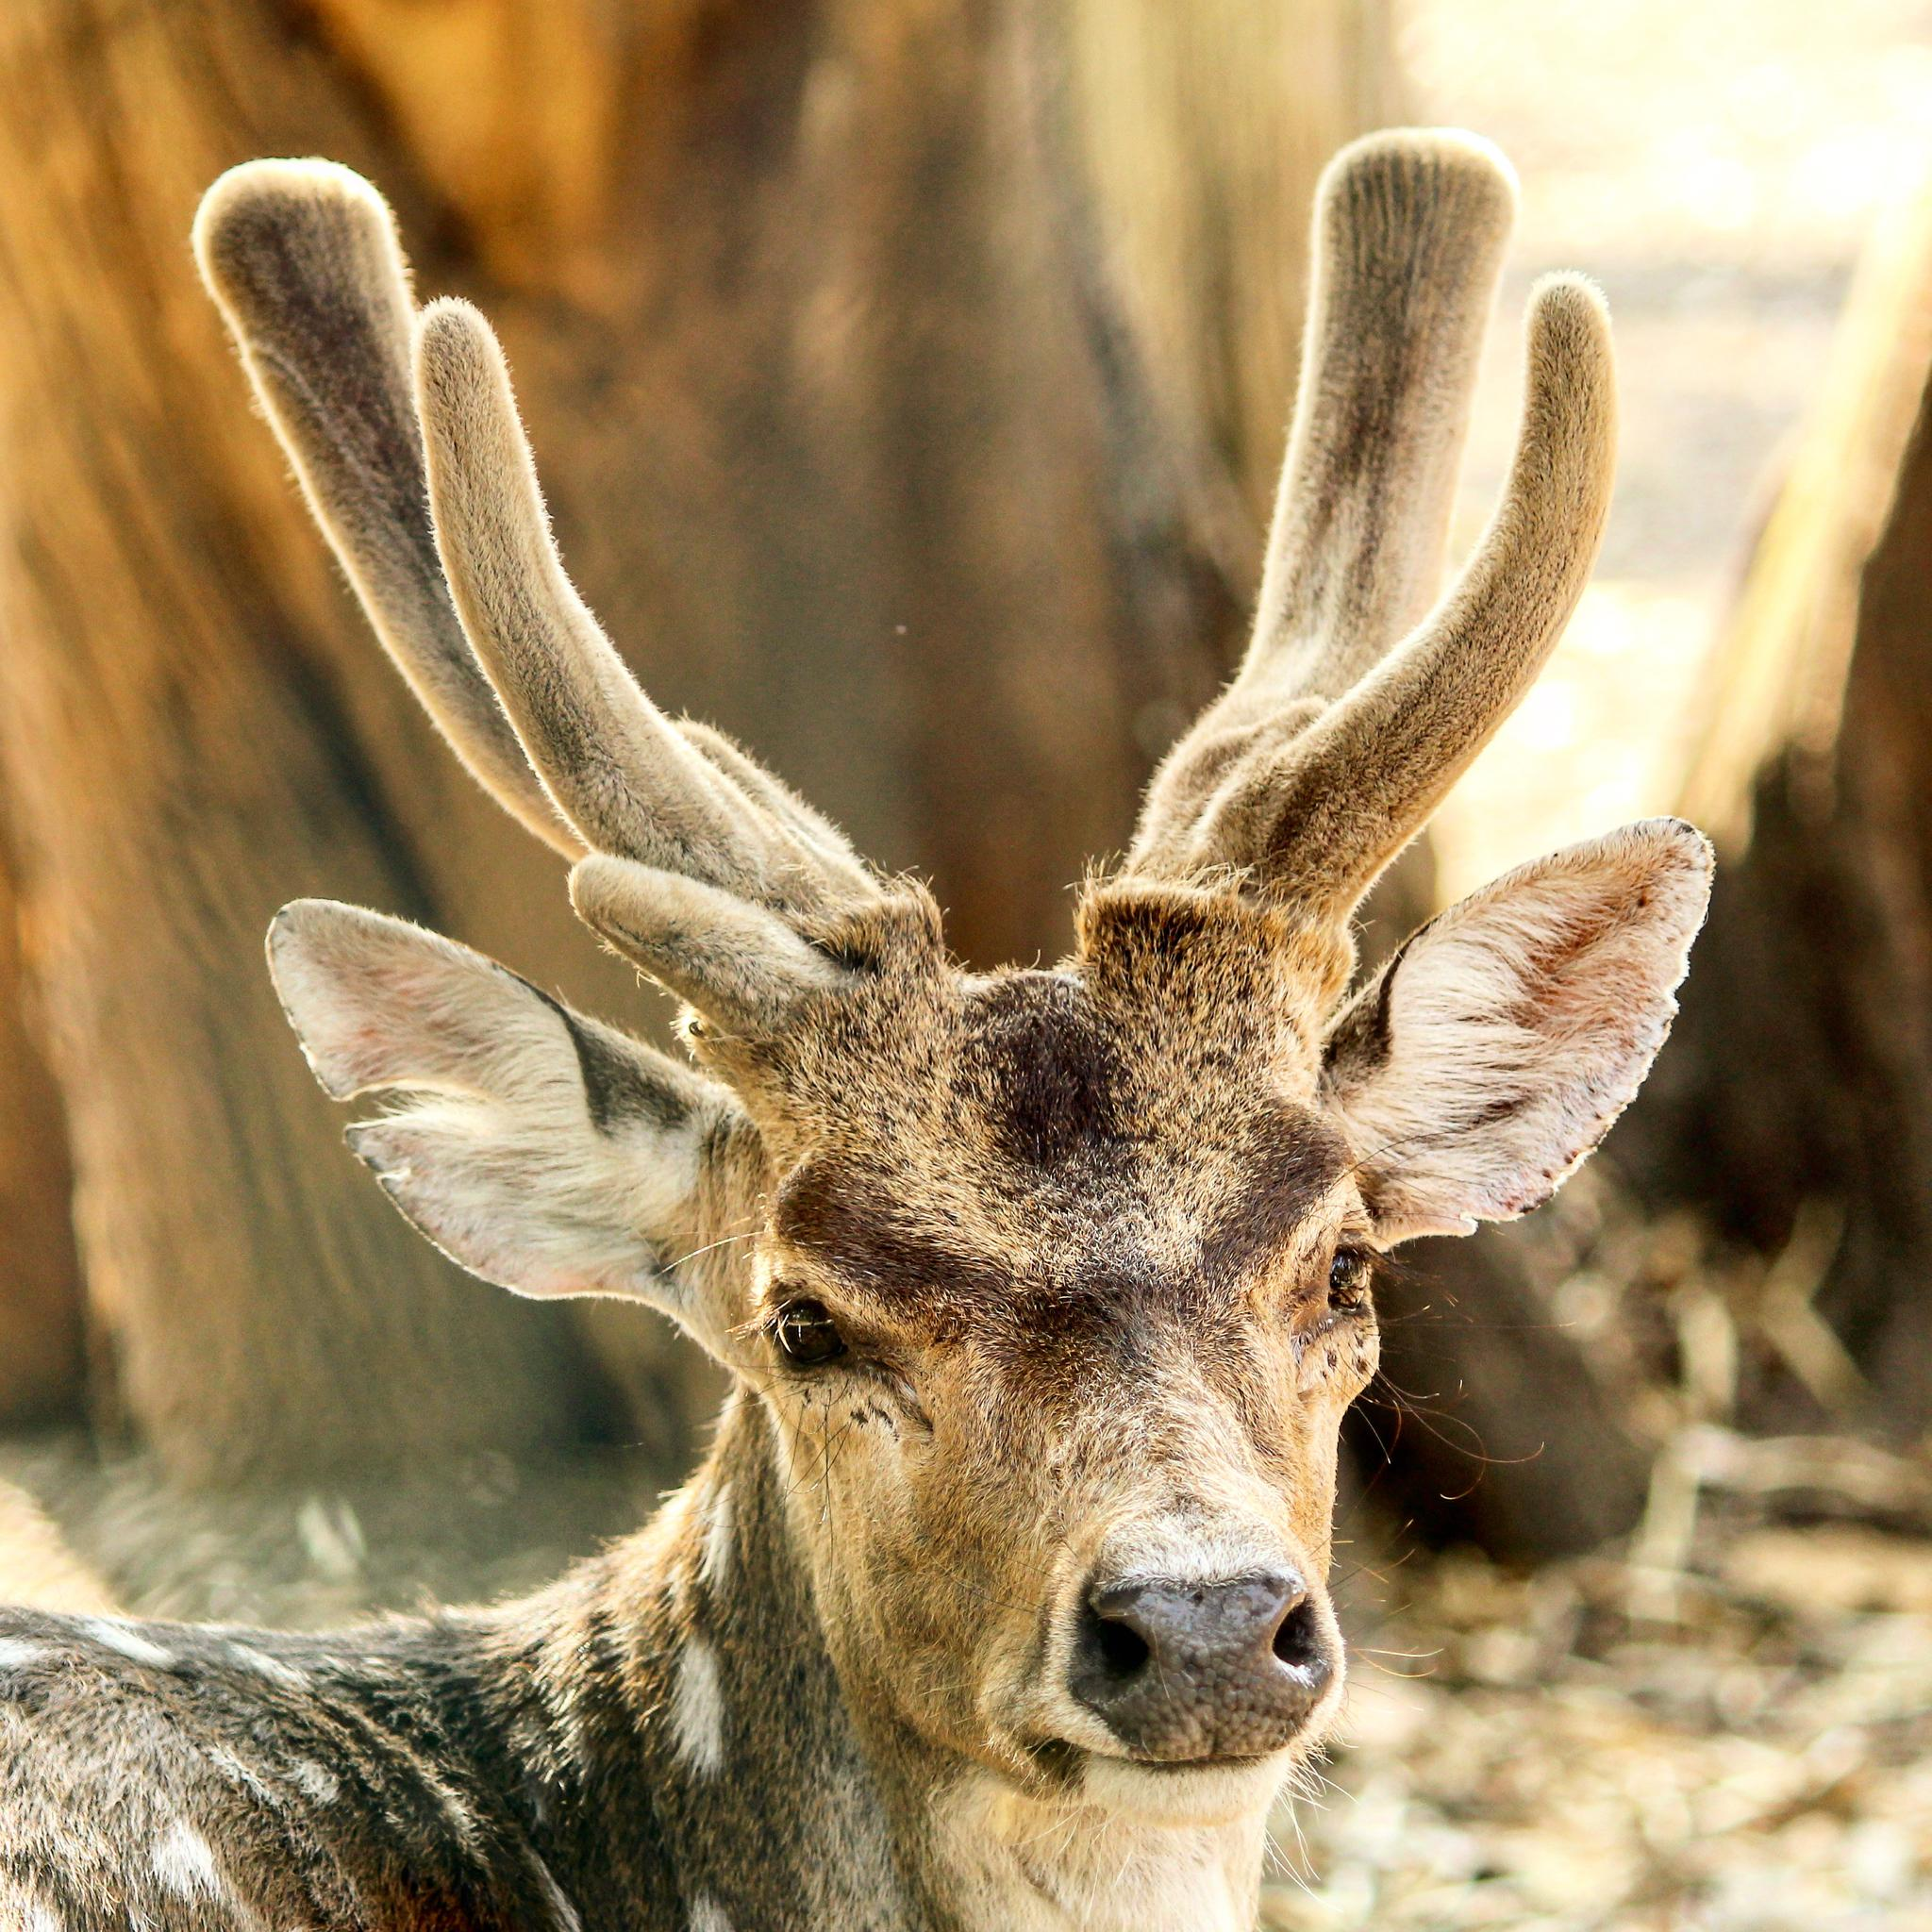Deer: (0, 131, 1711, 1930)
